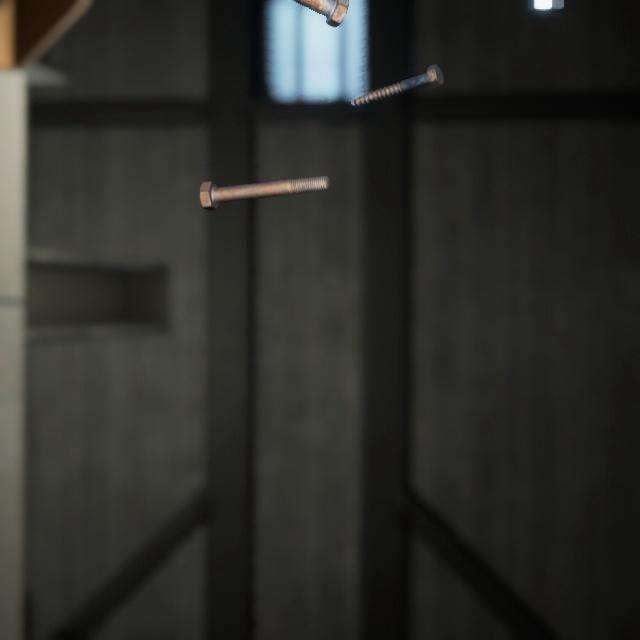bolt: (194, 156, 334, 199), (346, 49, 448, 99), (300, 0, 352, 25)
